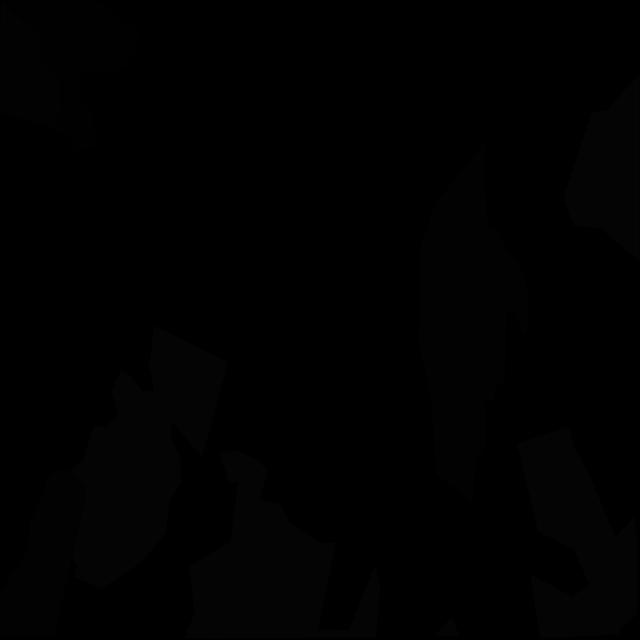cardboard: (419, 142, 530, 502), (0, 470, 84, 638), (0, 0, 64, 135)
rigid_plastic: (6, 0, 142, 151)
soft_plastic: (70, 359, 181, 589), (517, 427, 637, 638), (564, 74, 640, 262), (150, 326, 228, 457)
